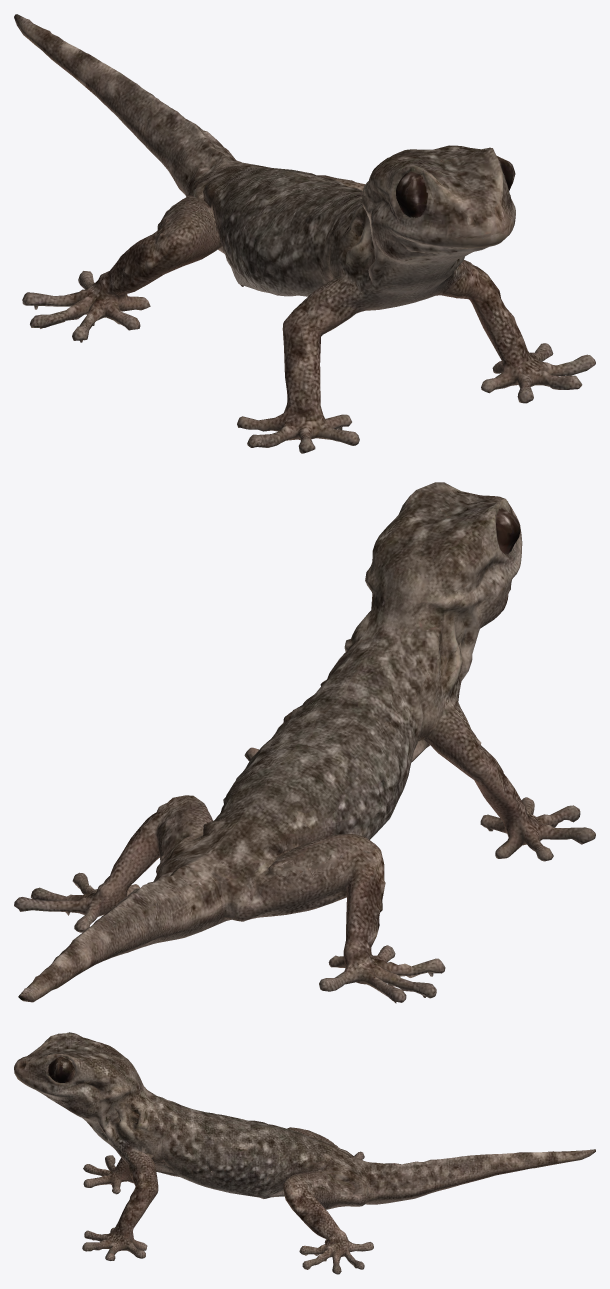
Rendered from gecko.glb.
The picture shows the model from 3 angles, top to bottom: view 1: azimuth 30°, elevation 25°; view 2: azimuth 150°, elevation 25°; view 3: azimuth 270°, elevation 25°; orthographic projection. The views are drawn at different scales.
Visible parts, largest first — view 1: gecko; view 2: gecko; view 3: gecko.
Boxes of the visible parts, x1,y1,x2,y2 form: gecko: (14, 14, 595, 453); gecko: (14, 482, 595, 1003); gecko: (14, 1032, 595, 1274).
Bounding box in the file's own units: 0.034 × 0.0233 × 0.0704.
1 material, 1 textured.
